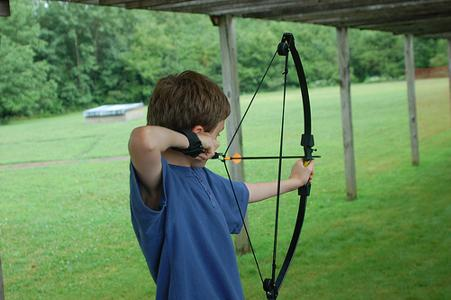person: (126, 70, 314, 300)
